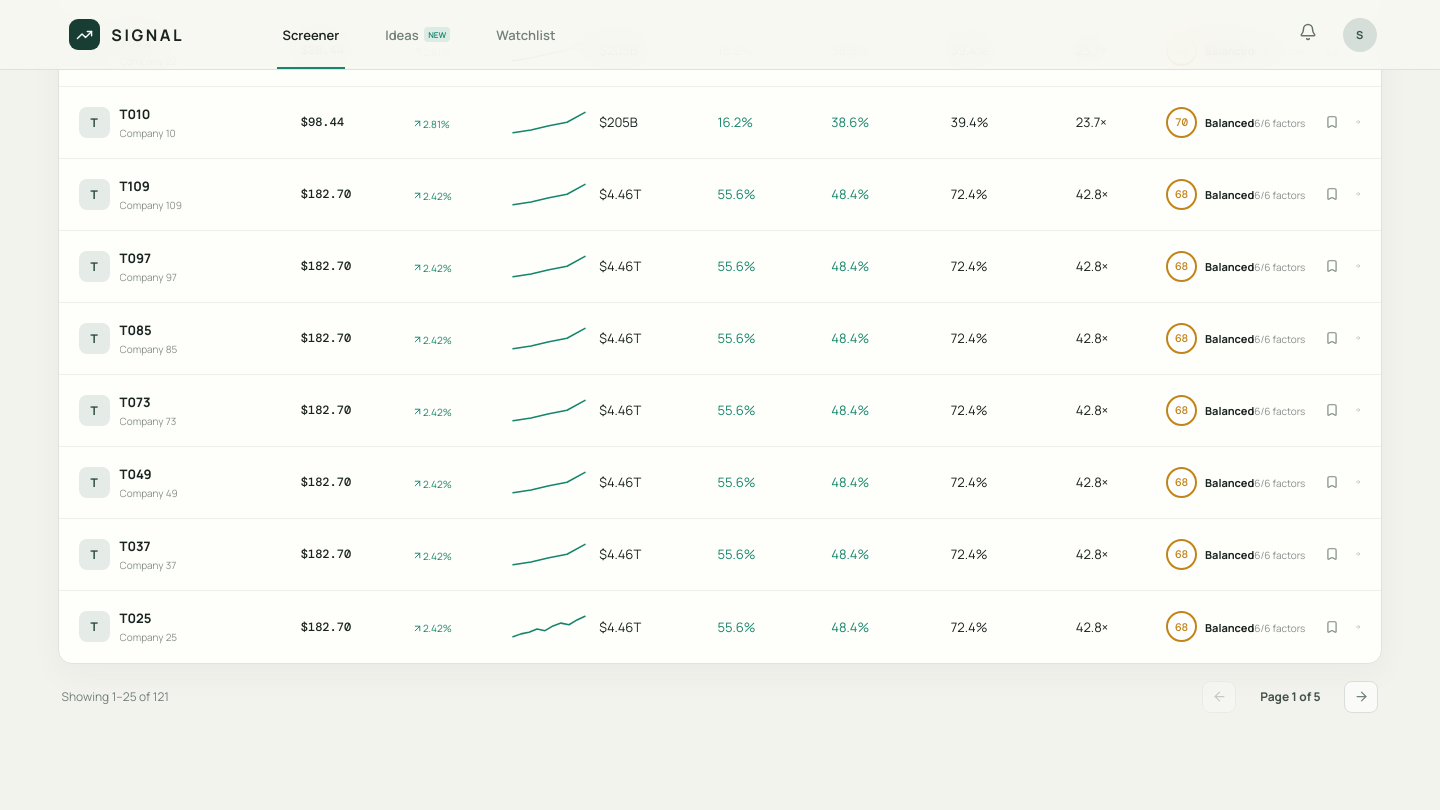
Test: screener criteria controls › loads the full market and paginates large result sets without rendering thousands of rows
The image size is (1440, 810).
(page scrolled)
Click the button named "Next page".
click(1361, 696)  # box left=1344, top=680, right=1378, bottom=712
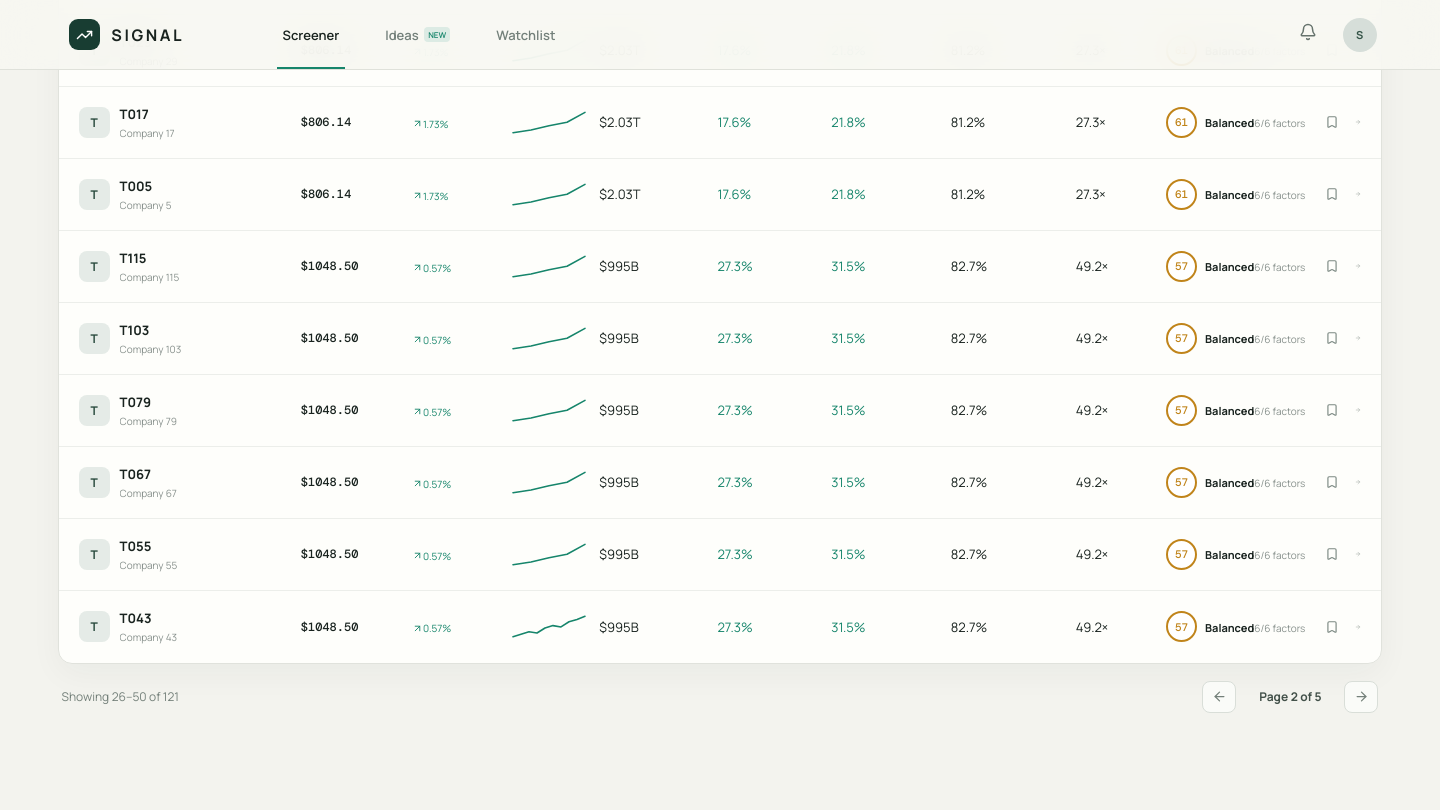
Now the text "Page 2 of 5" is shown, box left=1259, top=688, right=1322, bottom=705
